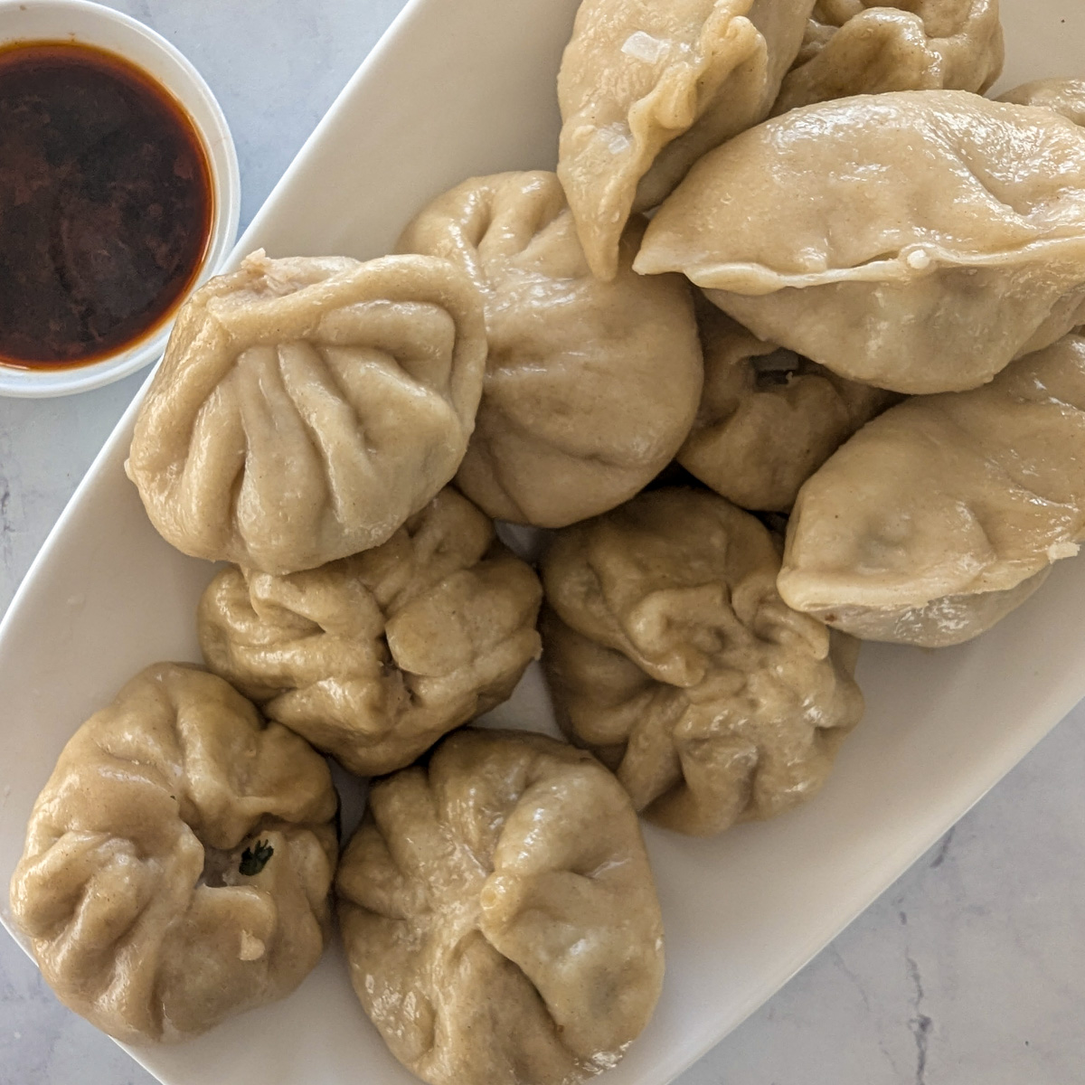momo: (642, 93, 1085, 382), (25, 646, 316, 1047), (556, 484, 875, 839), (122, 251, 481, 558), (341, 737, 660, 1080), (407, 181, 701, 518), (208, 488, 540, 760), (782, 380, 1085, 646), (538, 0, 778, 274), (696, 305, 859, 502)
